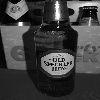beer: (33, 1, 84, 96)
